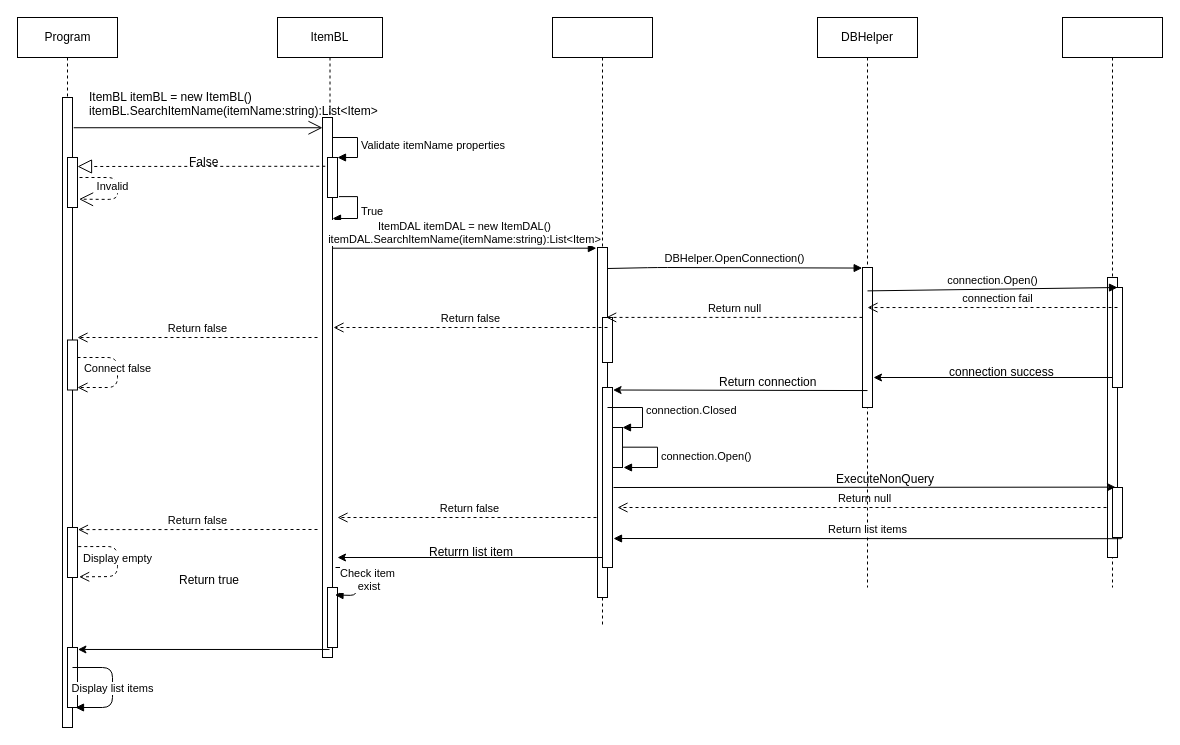
The diagram is 1180 pixels wide and 745 high, and some of its shapes have lost their labels. Here are the shapes that lost their labels. From the top down, the centre of each, then its label:
At (x=602, y=322): "ItemDAL".
At (x=1112, y=302): "Database".
